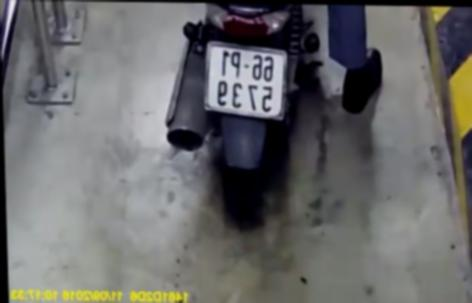License_Plate: (199, 38, 295, 124)
